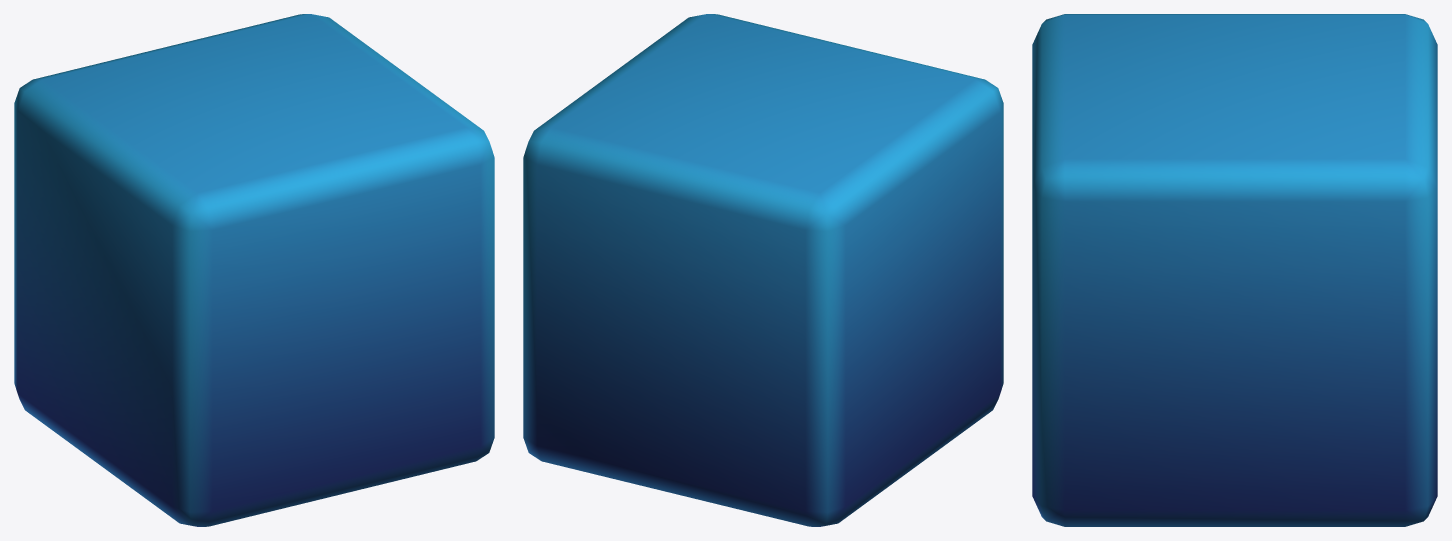
Rendered from cube_blue.obj.
3 views of the same model, side by side, from view 1: azimuth 30°, elevation 25°; view 2: azimuth 150°, elevation 25°; view 3: azimuth 270°, elevation 25° (orthographic). The views are drawn at different scales.
Visible parts, largest first — view 1: cube_blue; view 2: cube_blue; view 3: cube_blue.
Boxes of the visible parts, x1,y1,x2,y2 form: cube_blue: (14,14,494,526); cube_blue: (523,14,1003,526); cube_blue: (1032,14,1437,526).
Bounding box in the file's own units: 0.5 × 0.5 × 0.5.
1 material, 1 textured.
